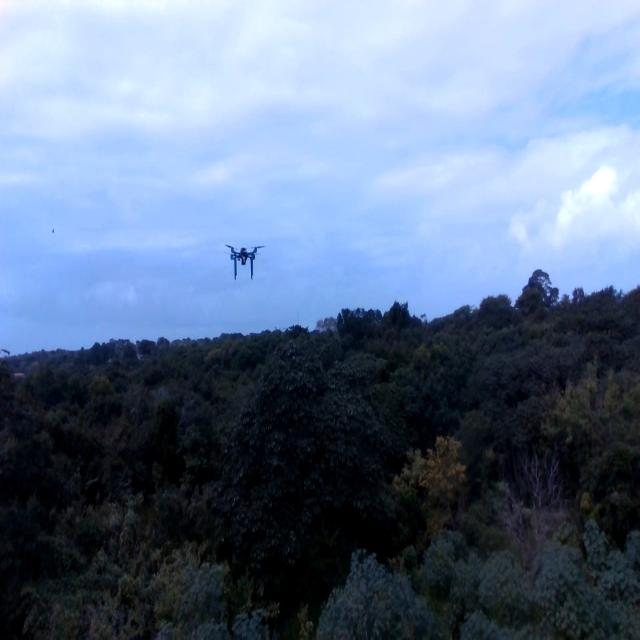-uav-: (223, 234, 266, 280)
